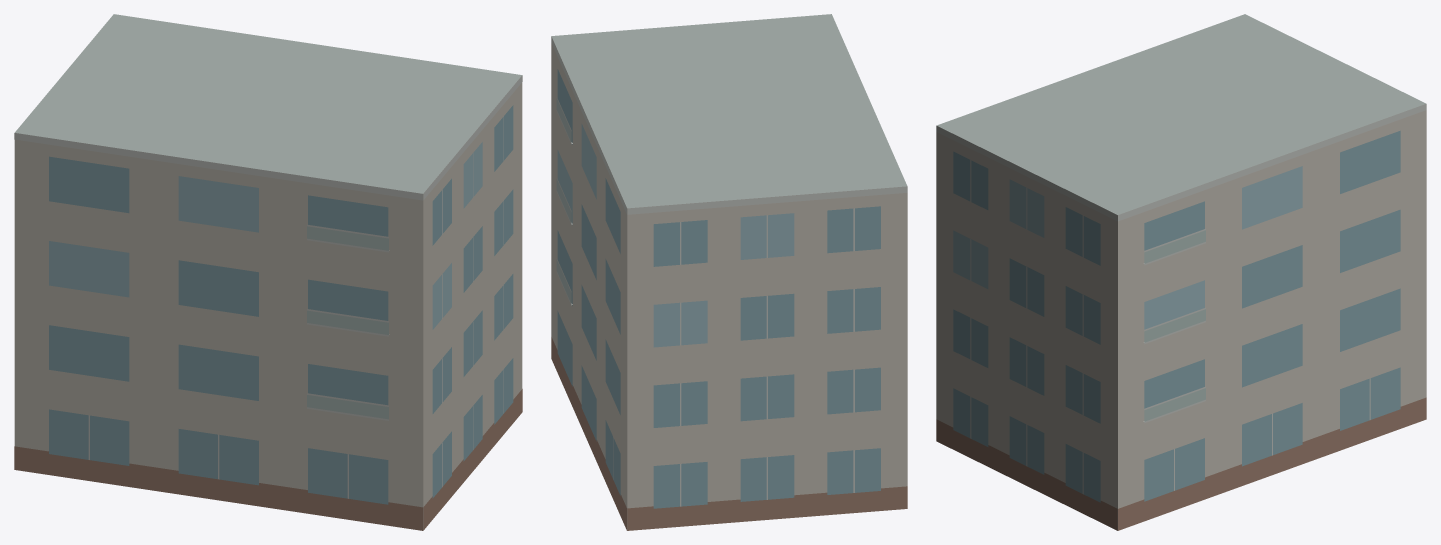
File: residential-1347cc92-35b3-4049-b4e9-3d57a682ba4c.glb
3 views of the same model, side by side, from view 1: azimuth 30°, elevation 25°; view 2: azimuth 150°, elevation 25°; view 3: azimuth 270°, elevation 25° (orthographic). The views are drawn at different scales.
Parts seen in each view (by area): view 1: residential-1347cc92-35b3-4049-b4e9-3d57a682ba4c.tmp; view 2: residential-1347cc92-35b3-4049-b4e9-3d57a682ba4c.tmp; view 3: residential-1347cc92-35b3-4049-b4e9-3d57a682ba4c.tmp.
Boxes of the visible parts, x1=… form: residential-1347cc92-35b3-4049-b4e9-3d57a682ba4c.tmp: x1=14, y1=14, x2=522, y2=530; residential-1347cc92-35b3-4049-b4e9-3d57a682ba4c.tmp: x1=551, y1=14, x2=907, y2=530; residential-1347cc92-35b3-4049-b4e9-3d57a682ba4c.tmp: x1=936, y1=14, x2=1426, y2=530.
Size of the model in its own units: 16.68 by 12.2 by 17.17.
